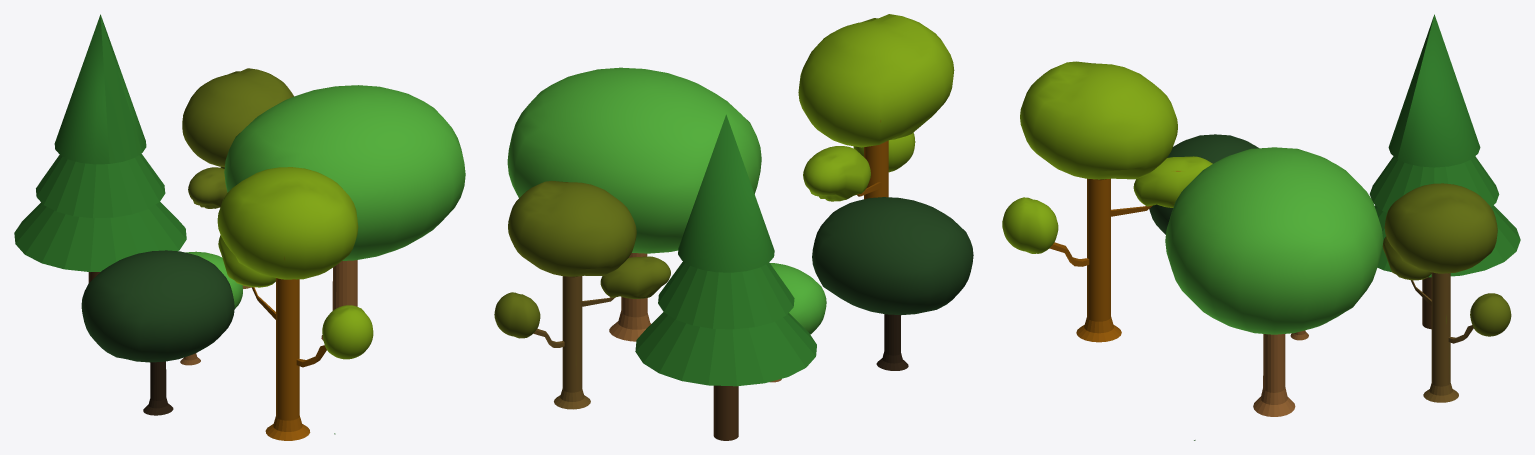
File: bosque.fbx
3 renders of one model, left to right at view 1: azimuth 30°, elevation 25°; view 2: azimuth 150°, elevation 25°; view 3: azimuth 270°, elevation 25°, orthographic. The views are drawn at different scales.
Parts seen in each view (by area): view 1: arbol3, pCone2, pSphere6, pasted__arbol3, pSphere7, pasted__arbol4; view 2: arbol3, pCone2, pSphere6, pSphere7, pasted__arbol3, pasted__arbol4; view 3: arbol3, pSphere6, pCone2, pSphere7, pasted__arbol3.
Part boxes in pixels (x1,y1,x2,y2): arbol3: (224, 85, 465, 340); pCone2: (14, 14, 186, 282); pSphere6: (217, 167, 373, 440); pasted__arbol3: (81, 250, 234, 415); pSphere7: (182, 68, 293, 288); pasted__arbol4: (180, 251, 242, 365); arbol3: (507, 67, 761, 341); pCone2: (635, 114, 816, 440); pSphere6: (798, 14, 954, 201); pSphere7: (494, 181, 670, 409); pasted__arbol3: (812, 197, 973, 370); pasted__arbol4: (769, 263, 826, 382); arbol3: (1165, 147, 1383, 416); pSphere6: (1002, 61, 1212, 342); pCone2: (1369, 14, 1520, 329); pSphere7: (1382, 183, 1511, 402); pasted__arbol3: (1149, 134, 1258, 234).
Bounding box in the file's own units: 168 × 150 × 192.
